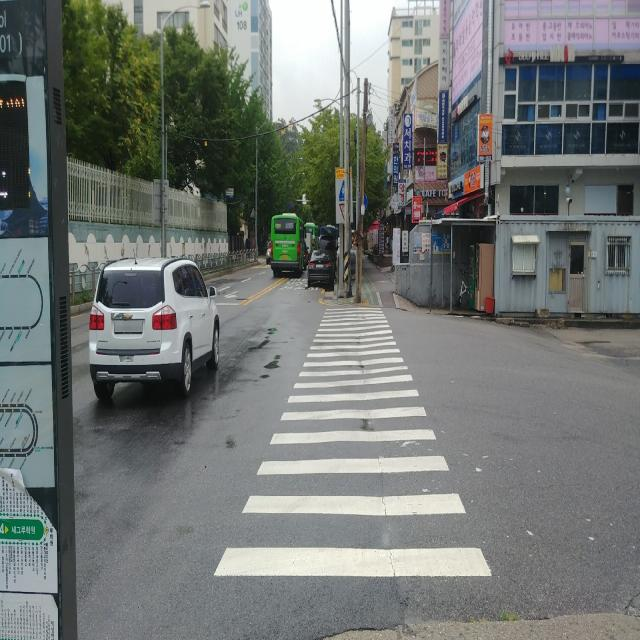횡단보도: (212, 305, 494, 583)
